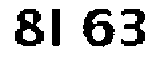3: (117, 6, 150, 52)
6: (74, 7, 116, 52)
8: (8, 4, 45, 51)
I: (46, 5, 69, 54)
